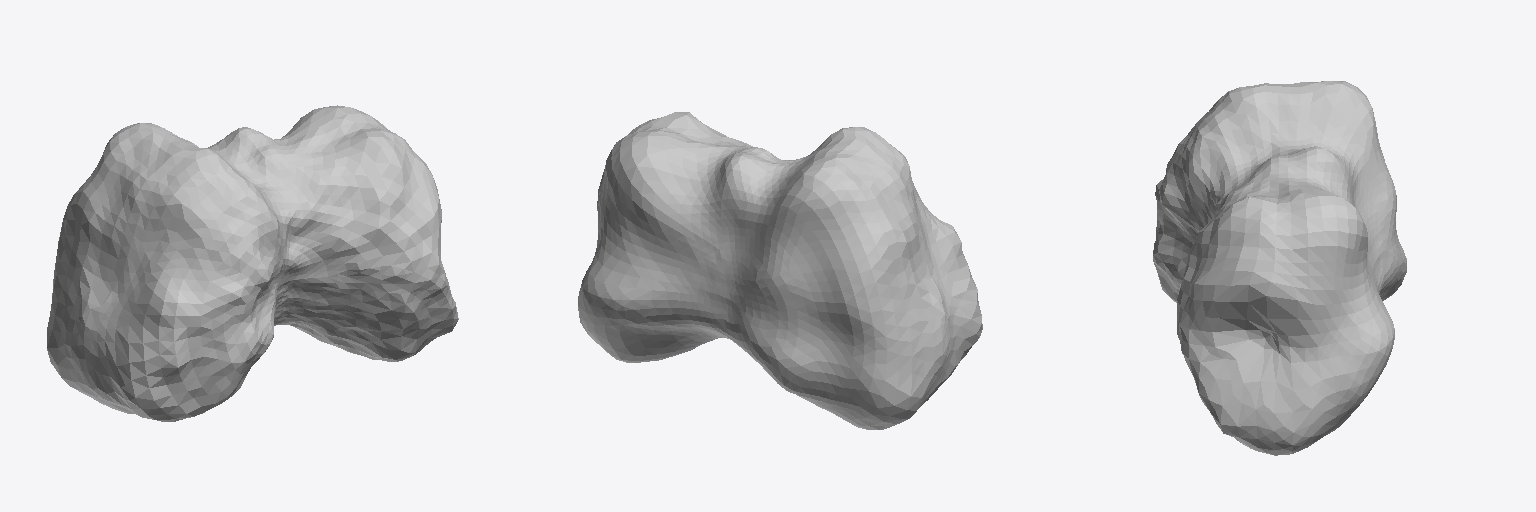
File: Mithra.obj
3 views of the same model, side by side, from view 1: azimuth 30°, elevation 25°; view 2: azimuth 150°, elevation 25°; view 3: azimuth 270°, elevation 25° (orthographic).
Parts seen in each view (by area): view 1: mithra; view 2: mithra; view 3: mithra.
Part boxes in pixels (x1,y1,x2,y2): mithra: (47, 105, 458, 421); mithra: (578, 112, 982, 429); mithra: (1153, 81, 1406, 455).
Bounding box in the file's own units: 3.34 × 2.34 × 2.04.